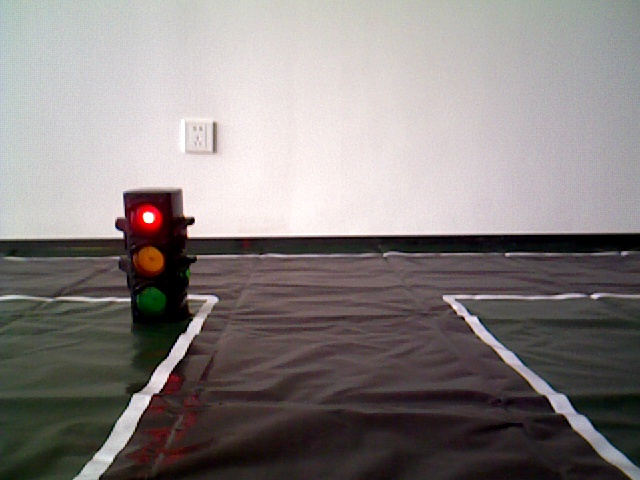red: (125, 193, 184, 327)
